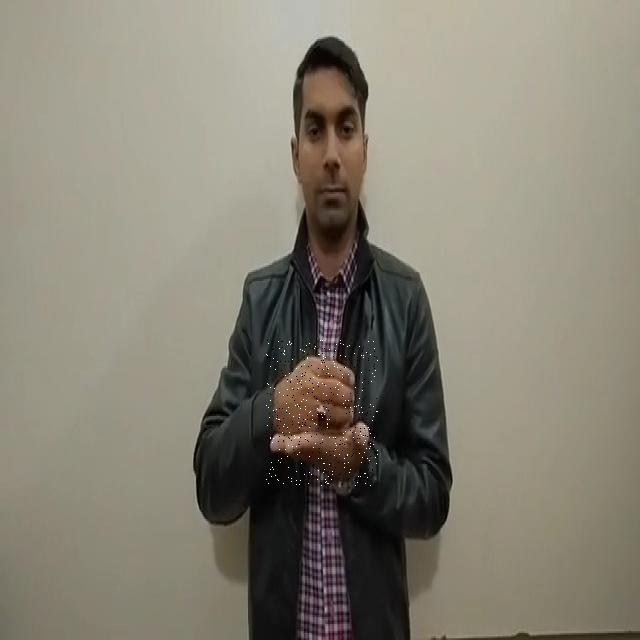cup: (266, 340, 378, 486)
